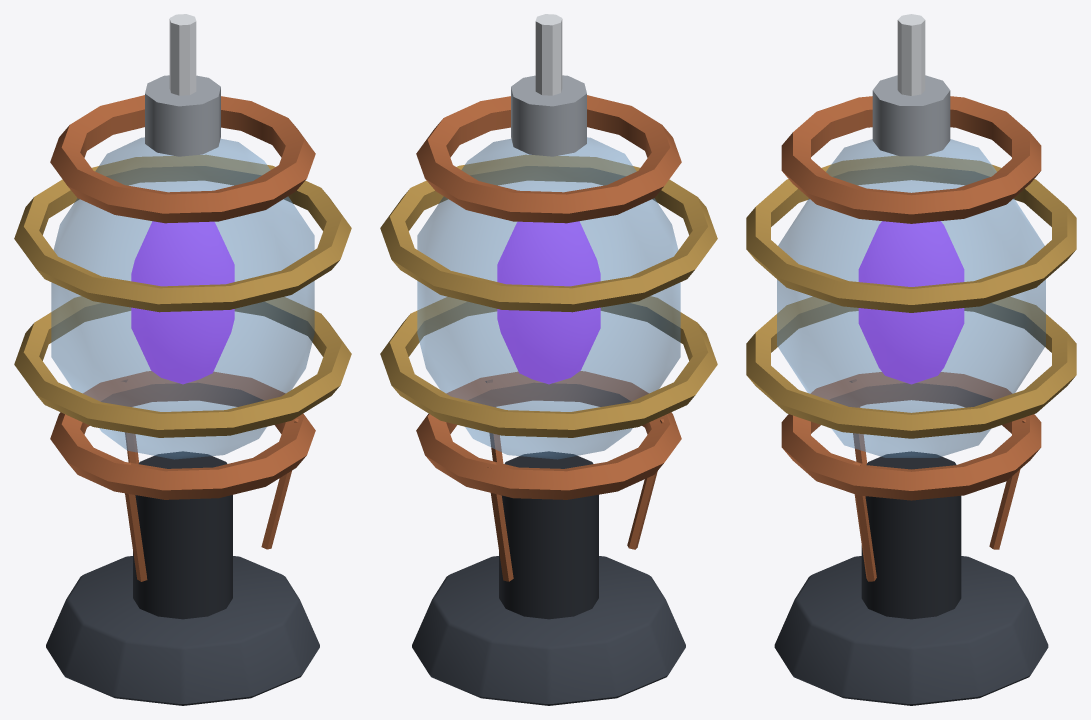
File: coil_magnetic_bottle.glb
The picture shows the model from 3 angles, left to right: view 1: azimuth 30°, elevation 25°; view 2: azimuth 150°, elevation 25°; view 3: azimuth 270°, elevation 25°; orthographic projection.
Visible parts, largest first — view 1: coil_magnetic_bottle; view 2: coil_magnetic_bottle; view 3: coil_magnetic_bottle.
Boxes of the visible parts, x1=… form: coil_magnetic_bottle: x1=14, y1=14, x2=351, y2=705; coil_magnetic_bottle: x1=380, y1=14, x2=717, y2=705; coil_magnetic_bottle: x1=746, y1=14, x2=1076, y2=705.
Size of the model in its own units: 1.22 by 2.5 by 1.19.
